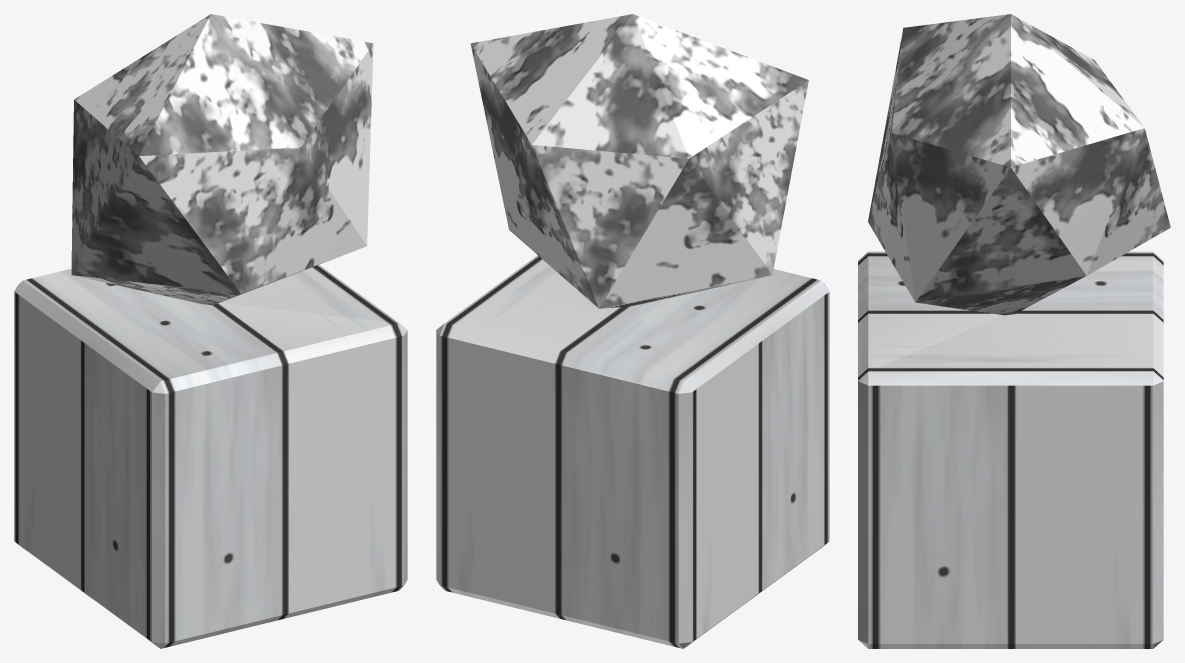
File: _smoke.glb
3 views of the same model, side by side, from view 1: azimuth 30°, elevation 25°; view 2: azimuth 150°, elevation 25°; view 3: azimuth 270°, elevation 25° (orthographic). The views are drawn at different scales.
Parts seen in each view (by area): view 1: smoke_M_wood, smoke_M_leaf; view 2: smoke_M_wood, smoke_M_leaf; view 3: smoke_M_wood, smoke_M_leaf.
Part boxes in pixels (x1=…): smoke_M_wood: x1=14, y1=264, x2=407, y2=648; smoke_M_leaf: x1=71, y1=14, x2=373, y2=305; smoke_M_wood: x1=436, y1=255, x2=829, y2=648; smoke_M_leaf: x1=470, y1=14, x2=808, y2=308; smoke_M_wood: x1=858, y1=251, x2=1163, y2=648; smoke_M_leaf: x1=868, y1=14, x2=1170, y2=315.
Size of the model in its own units: 0.7087 by 1.25 by 0.6142.
Materials: 2 (2 with a texture image).
